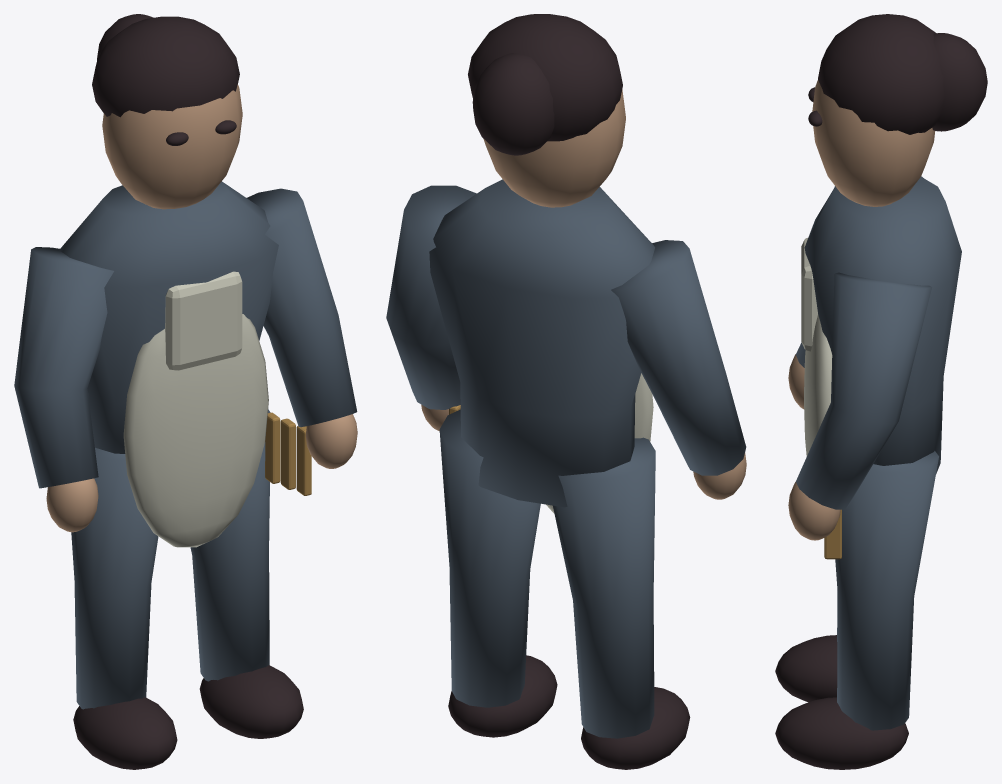
File: monster-housekeeping-housekeeper.glb
3 renders of one model, left to right at view 1: azimuth 30°, elevation 25°; view 2: azimuth 150°, elevation 25°; view 3: azimuth 270°, elevation 25°, orthographic. The views are drawn at different scales.
Parts seen in each view (by area): view 1: housekeeping-housekeeper; view 2: housekeeping-housekeeper; view 3: housekeeping-housekeeper.
Boxes of the visible parts, <box> form: housekeeping-housekeeper: <box>14,14,357,769</box>; housekeeping-housekeeper: <box>386,14,746,769</box>; housekeeping-housekeeper: <box>775,14,987,769</box>.
Bounding box in the file's own units: 0.4997 × 1.07 × 0.289.
